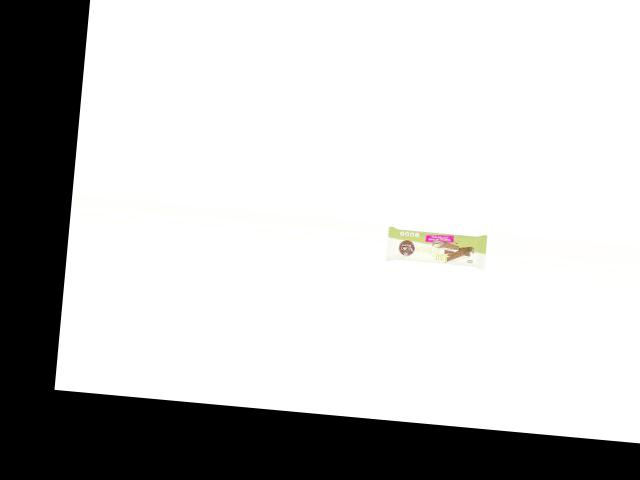chocolate: (386, 222, 489, 272)
